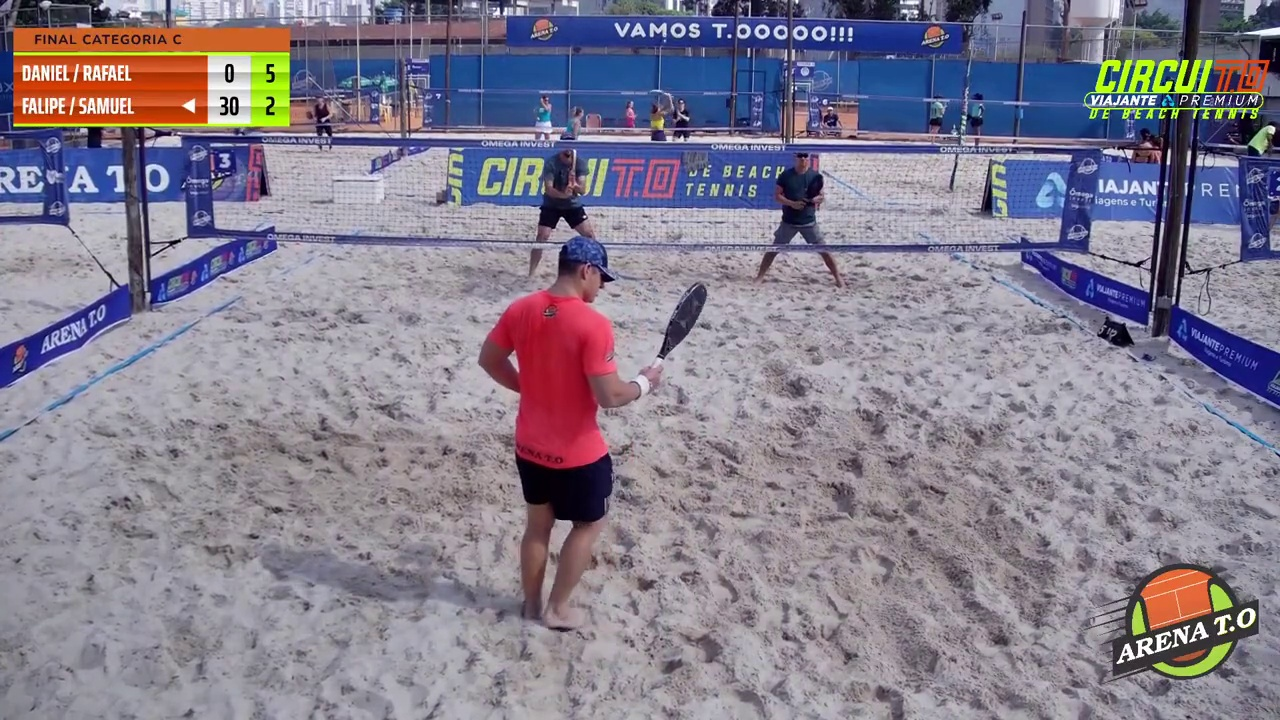court_line: (576, 0, 797, 504)
